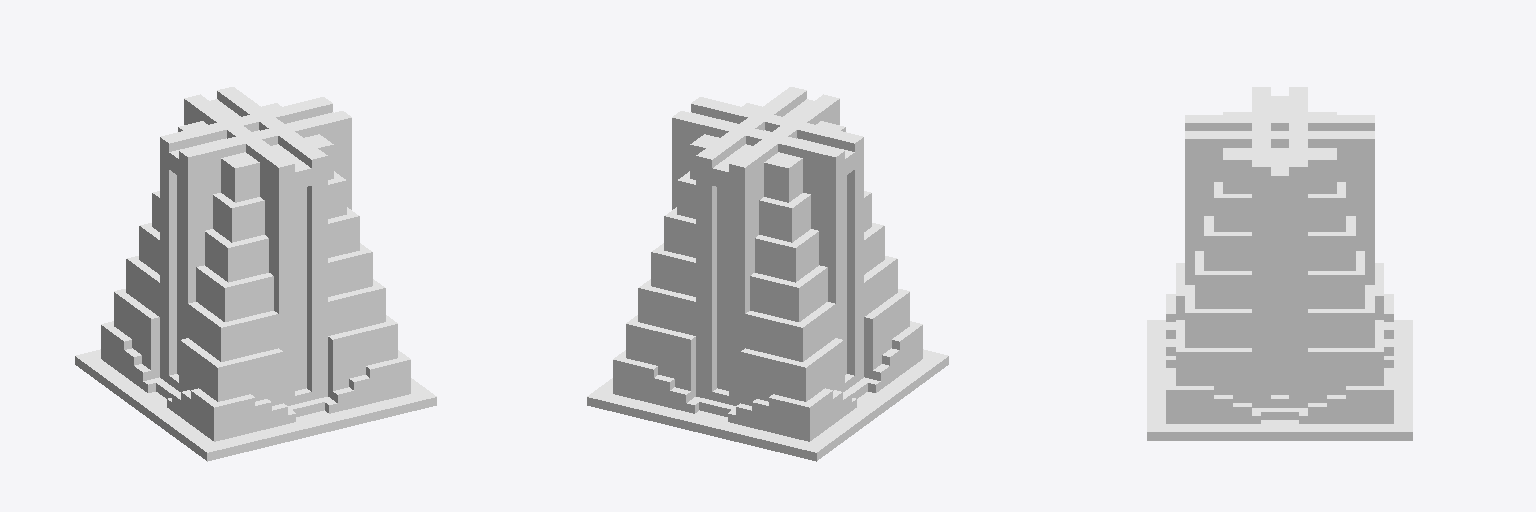
Rendered from wallColumn.obj.
The picture shows the model from 3 angles: view 1: azimuth 30°, elevation 25°; view 2: azimuth 150°, elevation 25°; view 3: azimuth 270°, elevation 25°; orthographic projection.
Visible parts, largest first — view 1: object 1; view 2: object 1; view 3: object 1.
Part boxes in pixels (left/top/right/bottom): object 1: left=75, top=87, right=436, bottom=461; object 1: left=587, top=87, right=948, bottom=461; object 1: left=1147, top=87, right=1412, bottom=440.
Bounding box in the file's own units: 2.8 × 3 × 2.8.